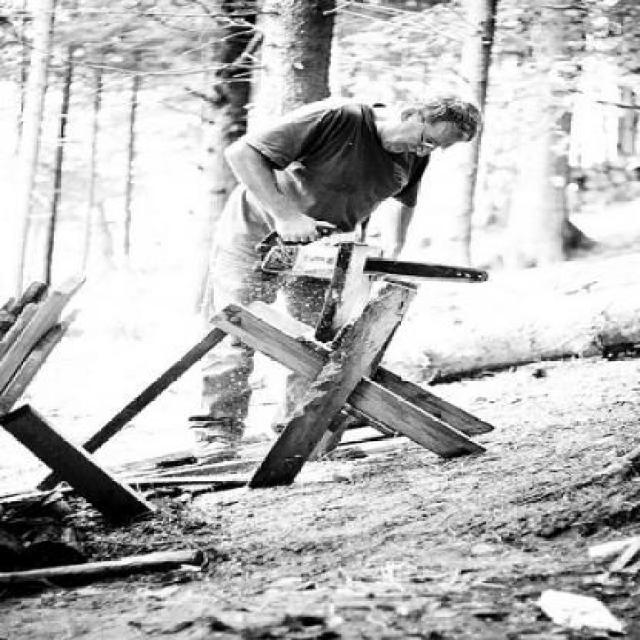Chainsaw: (254, 226, 488, 292)
